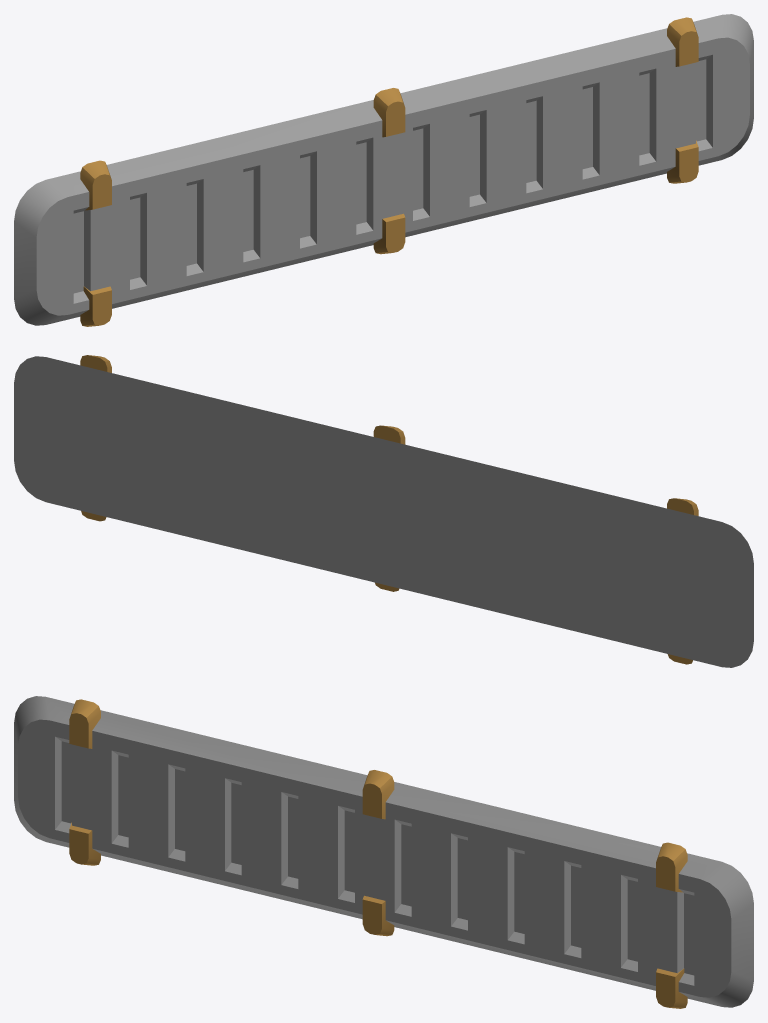
File: quaternius-modular-sci-fi-details-vent-3.glb
3 views of the same model, one above another, from view 1: azimuth 30°, elevation 25°; view 2: azimuth 150°, elevation 25°; view 3: azimuth 330°, elevation 25° (orthographic).
Visible parts, largest first — view 1: Details_Vent_3; view 2: Details_Vent_3; view 3: Details_Vent_3.
Part boxes in pixels (x1,y1,x2,y2): Details_Vent_3: (14,14,753,326); Details_Vent_3: (14,355,753,667); Details_Vent_3: (14,696,753,1008).
Size of the model in its own units: 1.05 by 0.2235 by 0.0286.
